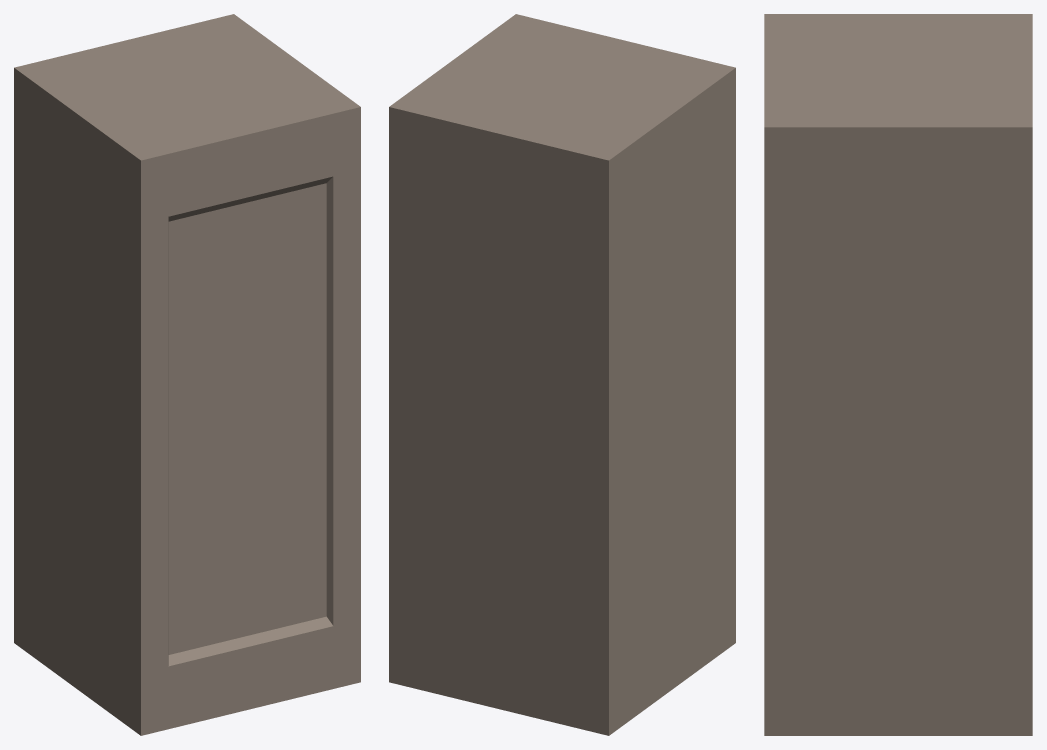
The model's file is Wall-Cabinet-Single-Door-with-Shelves_std_001_W12in.glb.
The picture shows the model from 3 angles, left to right: view 1: azimuth 30°, elevation 25°; view 2: azimuth 150°, elevation 25°; view 3: azimuth 270°, elevation 25°; orthographic projection. The views are drawn at different scales.
Parts seen in each view (by area): view 1: Wall-Cabinet-Single-Door-with-Shelves.std.001_W12in; view 2: Wall-Cabinet-Single-Door-with-Shelves.std.001_W12in; view 3: Wall-Cabinet-Single-Door-with-Shelves.std.001_W12in.
Part boxes in pixels (x1=…): Wall-Cabinet-Single-Door-with-Shelves.std.001_W12in: x1=14, y1=14, x2=360, y2=735; Wall-Cabinet-Single-Door-with-Shelves.std.001_W12in: x1=389, y1=14, x2=735, y2=735; Wall-Cabinet-Single-Door-with-Shelves.std.001_W12in: x1=764, y1=14, x2=1032, y2=735.
Bounding box in the file's own units: 0.3048 × 0.762 × 0.3048.
